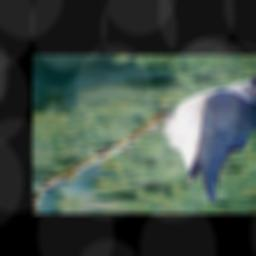Swallow: (126, 69, 256, 206)
